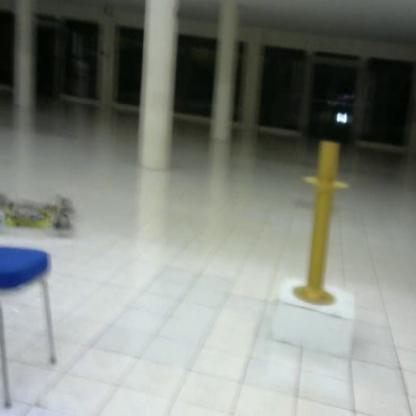pole: (293, 137, 351, 313)
